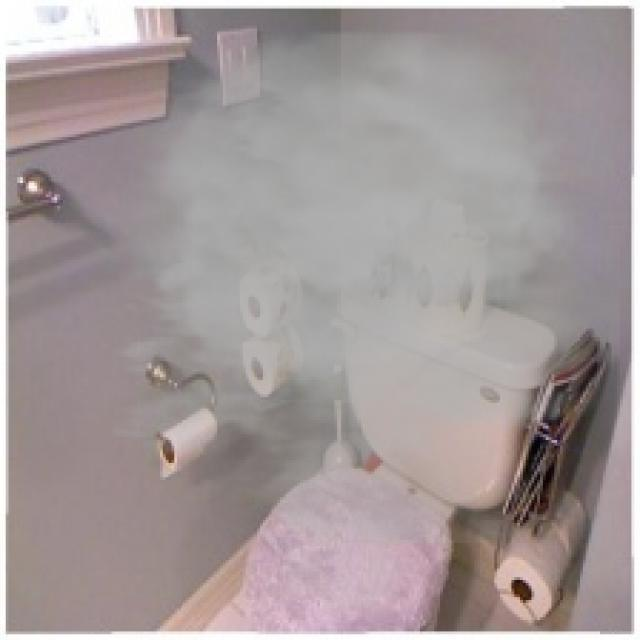Smoke: (54, 0, 620, 543)
